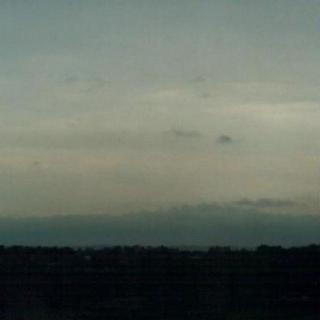Stratus: (0, 57, 320, 233)
